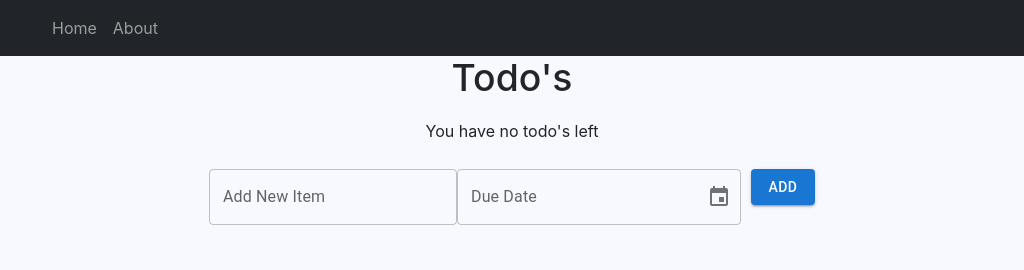
Scenario: additional test case
Type "Additional Task" into the field labelled "Add New Item" at (333, 197), box [209, 169, 457, 225]
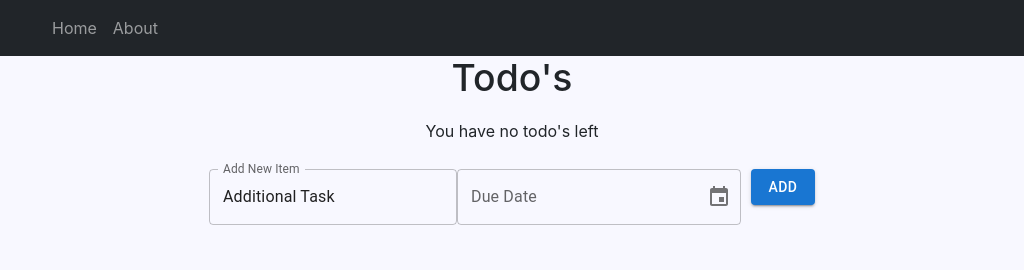
Type "06/30/2023" into the field with placeholder "mm/dd/yyyy" at (574, 197), box [457, 169, 691, 225]
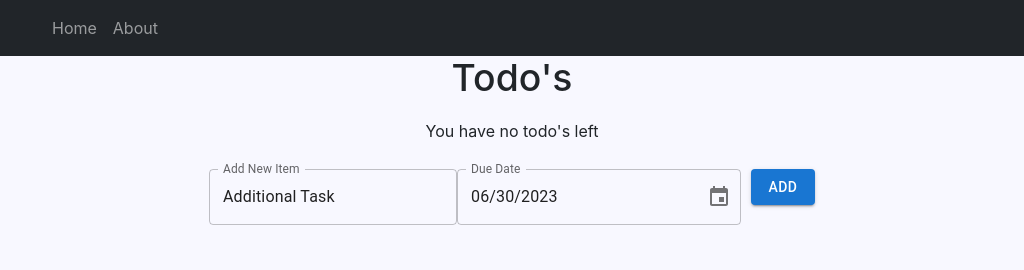
Click the button "Add" at (783, 187), box [751, 169, 815, 205]
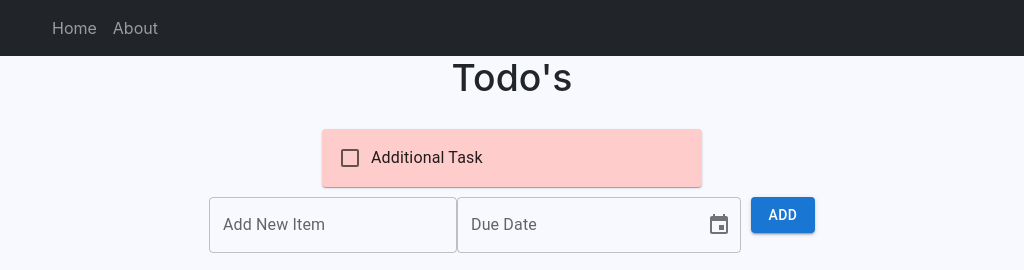
Expected: the text "Additional Task" is shown, [371, 148, 483, 167]
